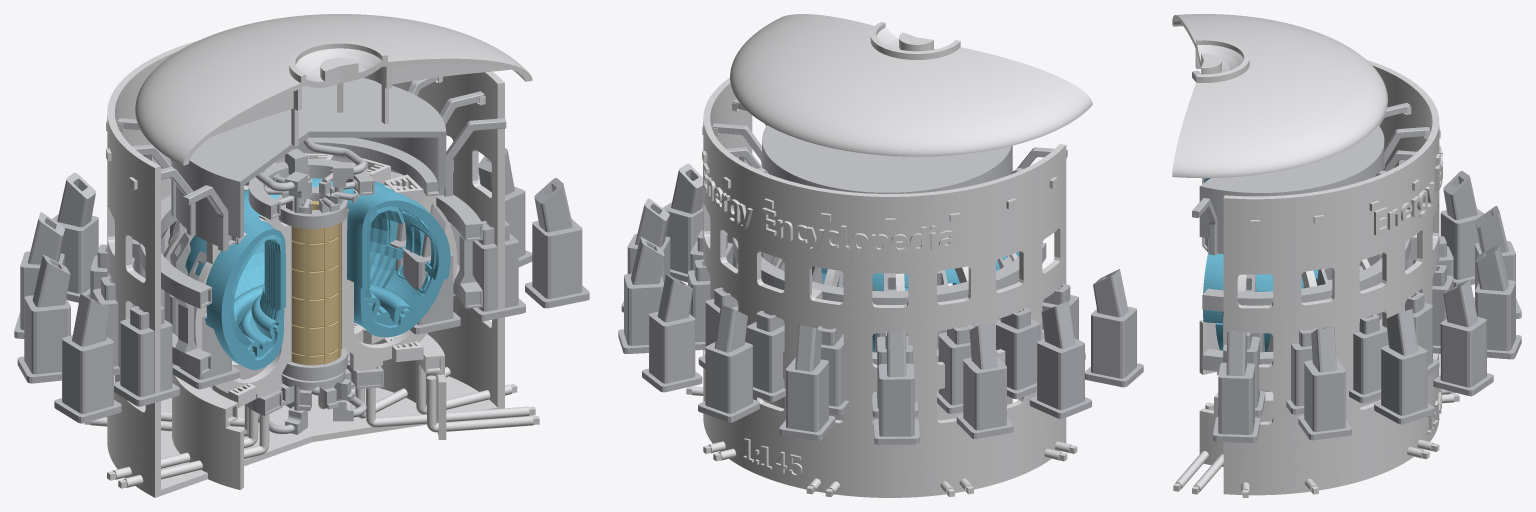
File: tokamak.glb
3 views of the same model, side by side, from view 1: azimuth 30°, elevation 25°; view 2: azimuth 150°, elevation 25°; view 3: azimuth 270°, elevation 25° (orthographic). The views are drawn at different scales.
Parts seen in each view (by area): view 1: bioshield_wall, ports, top_structure, roof, vessel_upper, vessel_lower, central_solenoid, cryostat, tf_coil_lower, central_column, tf_coil_upper; view 2: bioshield_wall, ports, roof, top_structure, cryostat, tf_coil_upper, vessel_upper; view 3: bioshield_wall, ports, roof, top_structure, cryostat, vessel_upper, tf_coil_upper.
Part boxes in pixels (x1=…): bioshield_wall: x1=84, y1=40, x2=539, y2=497; ports: x1=14, y1=148, x2=589, y2=423; top_structure: x1=117, y1=77, x2=506, y2=251; roof: x1=135, y1=14, x2=532, y2=165; vessel_upper: x1=185, y1=178, x2=450, y2=333; vessel_lower: x1=213, y1=251, x2=443, y2=369; central_solenoid: x1=291, y1=201, x2=341, y2=365; cryostat: x1=139, y1=171, x2=482, y2=375; tf_coil_lower: x1=194, y1=261, x2=457, y2=407; central_column: x1=245, y1=348, x2=383, y2=434; tf_coil_upper: x1=163, y1=153, x2=457, y2=329; bioshield_wall: x1=686, y1=77, x2=1077, y2=497; ports: x1=618, y1=163, x2=1143, y2=444; roof: x1=730, y1=14, x2=1092, y2=156; top_structure: x1=712, y1=99, x2=1067, y2=193; cryostat: x1=732, y1=237, x2=1046, y2=364; tf_coil_upper: x1=771, y1=253, x2=1017, y2=291; vessel_upper: x1=821, y1=252, x2=1019, y2=291; bioshield_wall: x1=1173, y1=59, x2=1459, y2=497; ports: x1=1213, y1=160, x2=1521, y2=442; roof: x1=1172, y1=14, x2=1387, y2=178; top_structure: x1=1192, y1=70, x2=1429, y2=255; cryostat: x1=1202, y1=178, x2=1410, y2=371; vessel_upper: x1=1203, y1=178, x2=1318, y2=323; tf_coil_upper: x1=1237, y1=258, x2=1370, y2=328.
Bounding box in the file's own units: 271 × 201 × 177.
